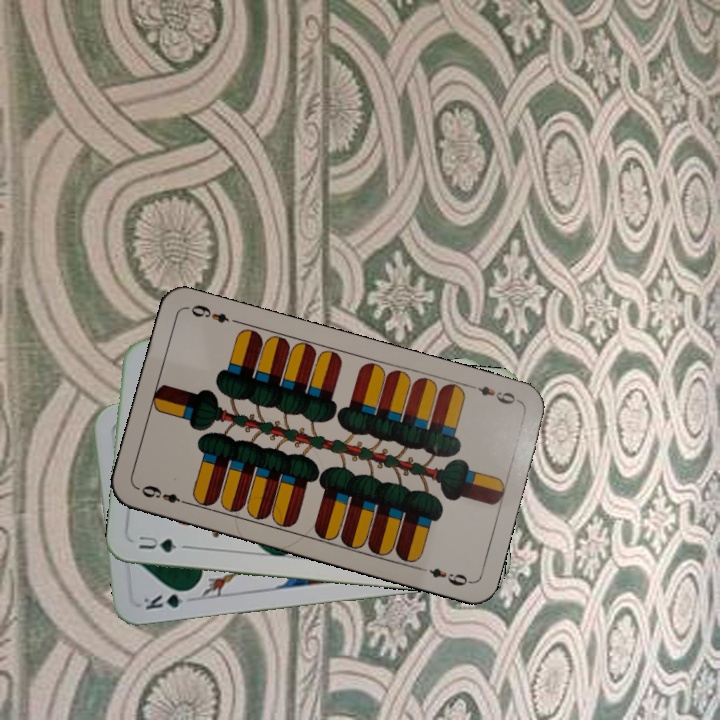E9: (464, 380, 522, 407), (137, 481, 192, 508)
GK: (139, 585, 196, 613)
GU: (135, 531, 189, 555)
